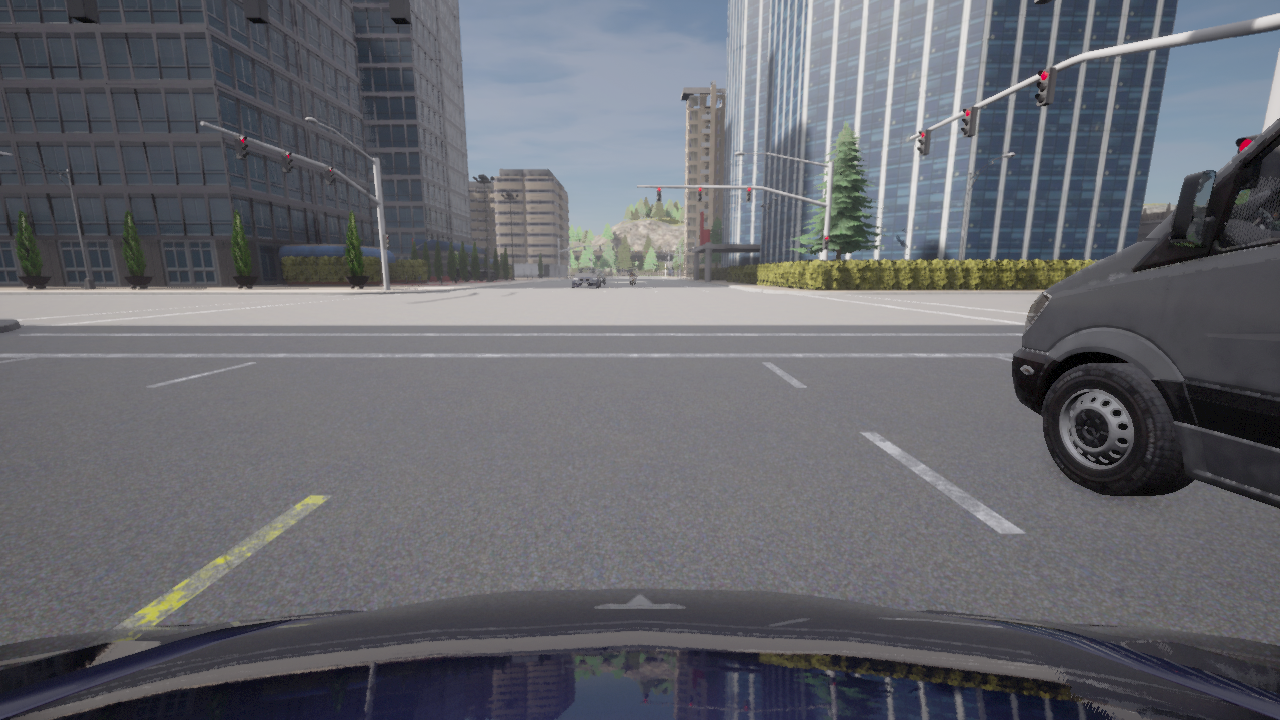cyclist: (0, 588, 1279, 719), (1011, 116, 1279, 508), (571, 268, 600, 288), (455, 267, 495, 281), (596, 269, 606, 284), (629, 274, 634, 286), (479, 266, 485, 269)
pedestrian: (417, 273, 422, 286)
